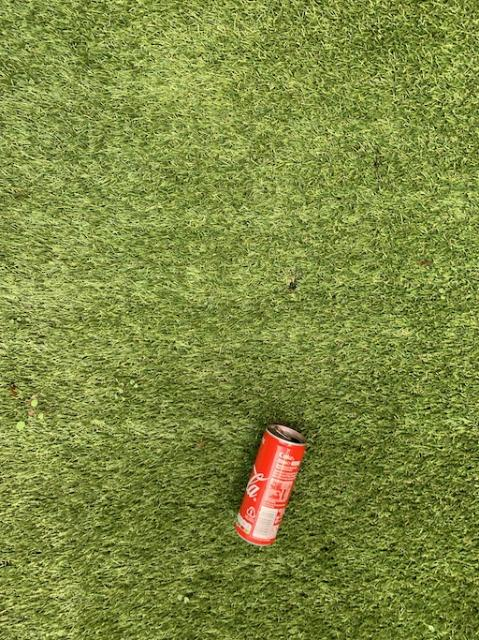metal: (234, 423, 305, 543)
